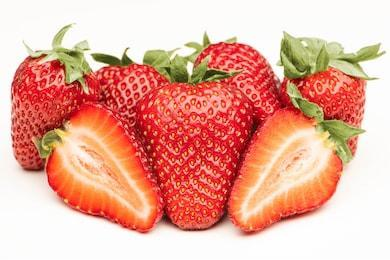Fresa: (132, 71, 256, 232), (5, 43, 98, 176), (275, 46, 376, 167), (189, 35, 287, 128)
